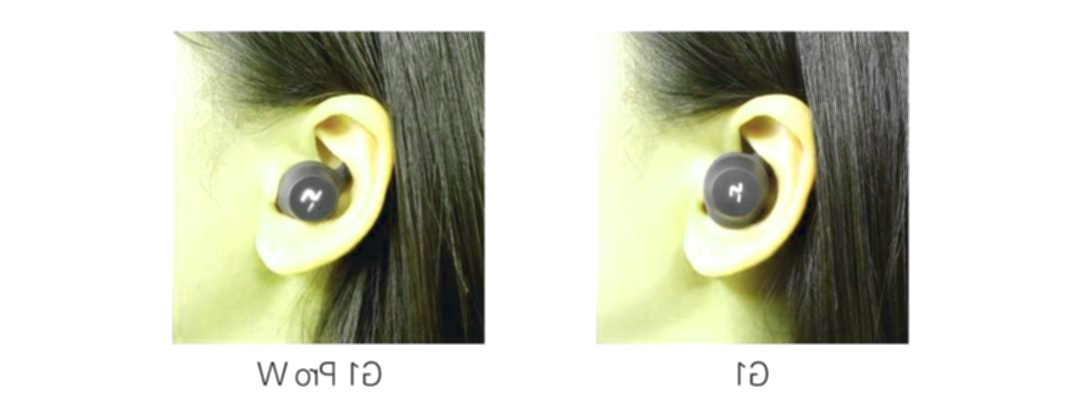earphone: (673, 94, 816, 279), (251, 94, 395, 276)
